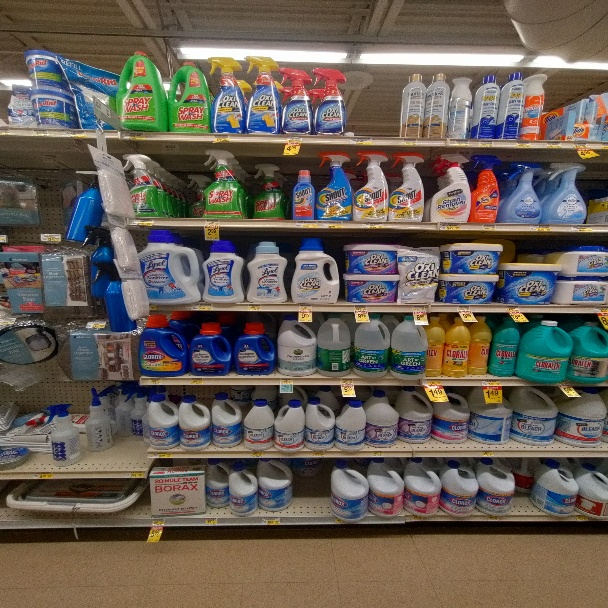All PRICE TAGS: (62, 130, 87, 138), (361, 222, 383, 230), (421, 378, 442, 386), (570, 225, 593, 232), (40, 234, 60, 242), (131, 218, 153, 225), (351, 137, 373, 144), (31, 472, 53, 479), (481, 379, 501, 386), (149, 452, 172, 458), (262, 517, 279, 525), (529, 225, 551, 231), (202, 517, 218, 525), (322, 222, 343, 228), (192, 305, 213, 311), (87, 322, 105, 329), (125, 472, 145, 478), (440, 223, 460, 229), (144, 378, 161, 385), (0, 317, 17, 324), (546, 142, 562, 149), (456, 139, 470, 147), (32, 130, 48, 137), (400, 139, 418, 145), (353, 305, 368, 312), (205, 220, 220, 227), (215, 133, 230, 140), (593, 306, 608, 313), (556, 379, 571, 386), (573, 142, 588, 149), (517, 141, 532, 148), (341, 378, 354, 386), (480, 140, 493, 148), (298, 222, 315, 228), (286, 136, 303, 142), (122, 133, 142, 138), (151, 518, 165, 525), (413, 305, 427, 312), (481, 223, 495, 230), (299, 305, 312, 312), (458, 305, 471, 312), (370, 450, 383, 457), (485, 515, 500, 521), (190, 378, 204, 384), (411, 516, 425, 522), (505, 306, 519, 312), (481, 452, 495, 458), (280, 379, 293, 385), (248, 305, 261, 311), (576, 515, 587, 521), (312, 451, 325, 456), (250, 452, 262, 457)
